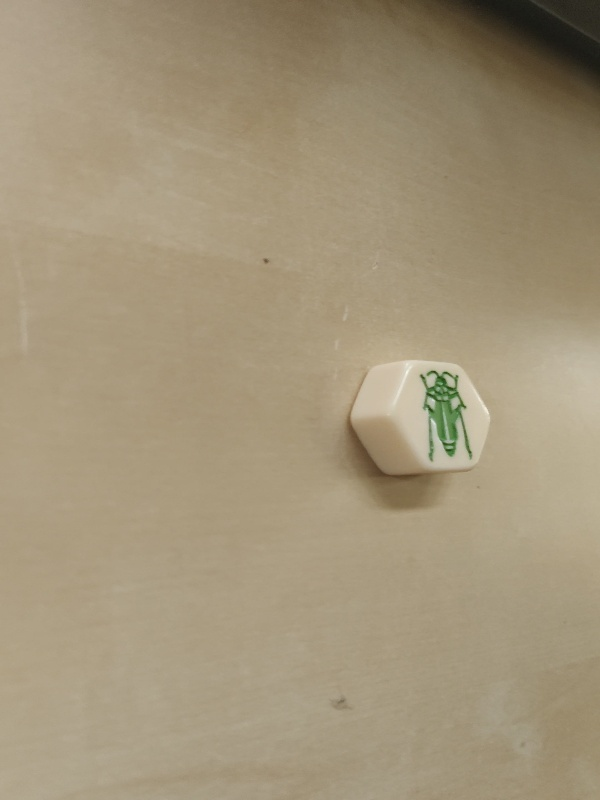white_grasshopper: (351, 360, 492, 476)
